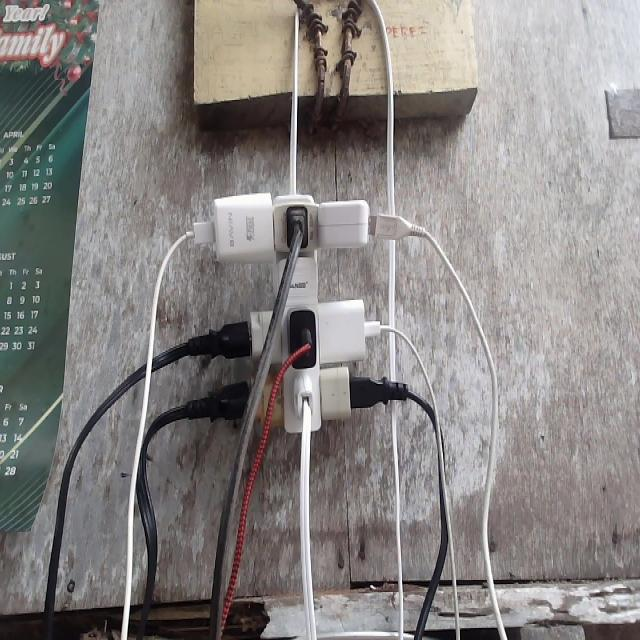-: (157, 190, 424, 434)
